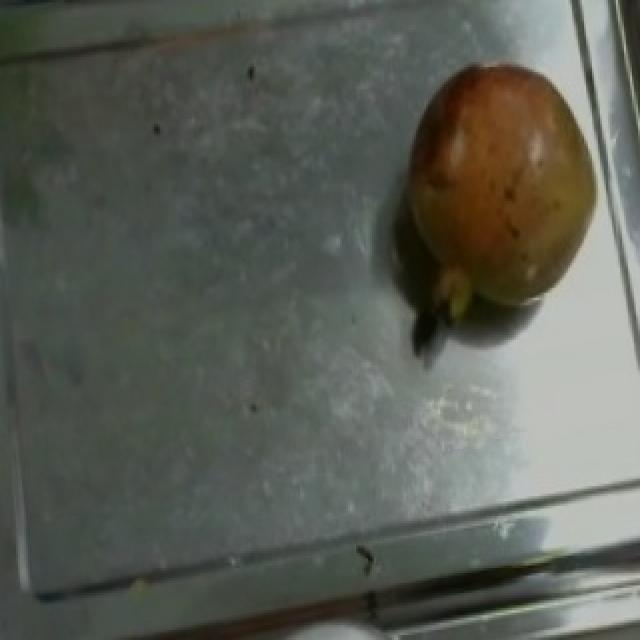fruit: (386, 32, 610, 305)
